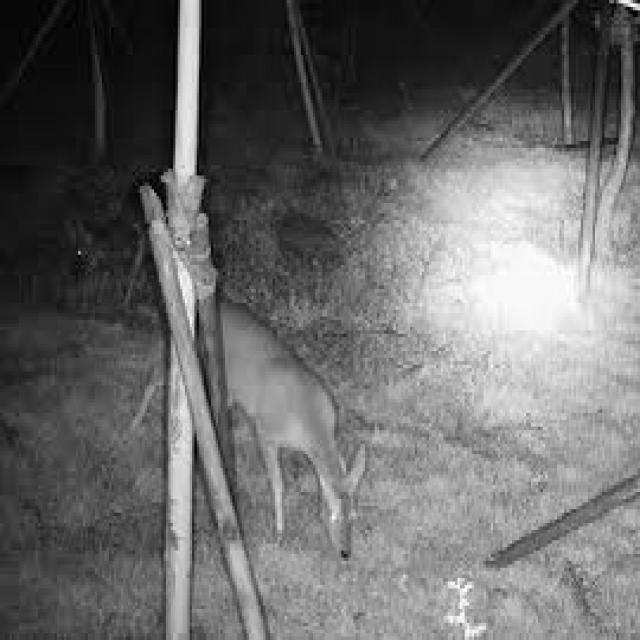elk: (142, 237, 385, 629)
